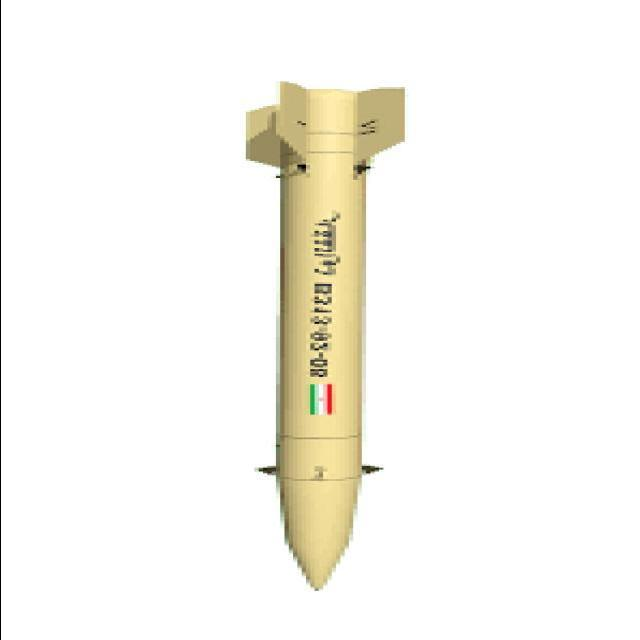Missile: (238, 80, 406, 601)
